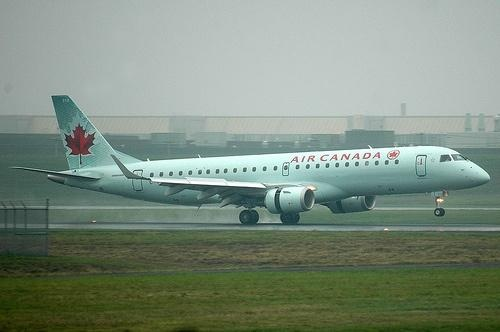aeroplane: (12, 96, 493, 225)
